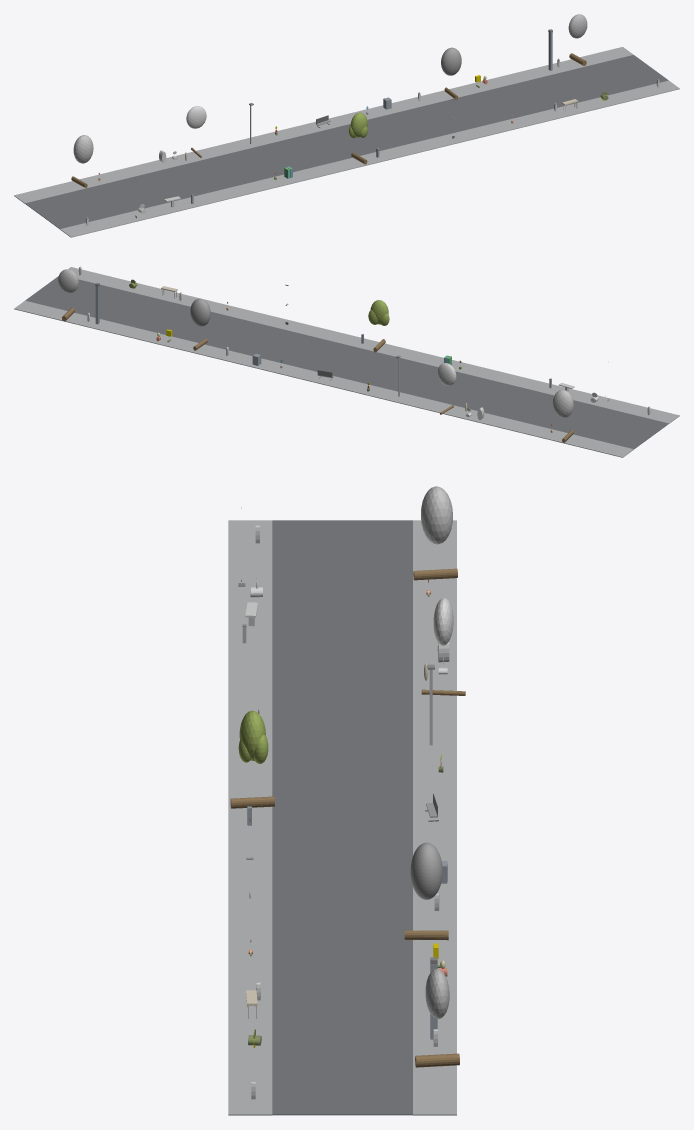
3 renders of one model, top to bottom at view 1: azimuth 30°, elevation 25°; view 2: azimuth 150°, elevation 25°; view 3: azimuth 270°, elevation 25°, orthographic. The views are drawn at different scales.
Visible parts, largest first — view 1: road_slab, sidewalk_left, sidewalk_right, inst_0012, inst_0015, inst_0014, inst_0016, inst_0013; view 2: road_slab, sidewalk_right, sidewalk_left, inst_0015, inst_0012, inst_0014, inst_0016, inst_0013; view 3: road_slab, sidewalk_left, sidewalk_right, inst_0012, inst_0015, inst_0014, inst_0016, inst_0013.
Boxes of the visible parts, bbox=[...] form: road_slab: bbox=[25, 55, 668, 228]; sidewalk_left: bbox=[60, 80, 679, 237]; sidewalk_right: bbox=[14, 47, 633, 203]; inst_0012: bbox=[71, 135, 93, 187]; inst_0015: bbox=[441, 47, 461, 99]; inst_0014: bbox=[348, 112, 367, 164]; inst_0016: bbox=[568, 14, 587, 65]; inst_0013: bbox=[186, 106, 206, 157]; road_slab: bbox=[25, 276, 668, 449]; sidewalk_right: bbox=[14, 300, 633, 457]; sidewalk_left: bbox=[68, 267, 679, 423]; inst_0015: bbox=[190, 298, 210, 350]; inst_0012: bbox=[552, 389, 573, 442]; inst_0014: bbox=[368, 300, 389, 352]; inst_0016: bbox=[58, 269, 78, 321]; inst_0013: bbox=[437, 363, 456, 414]; road_slab: bbox=[272, 520, 412, 1115]; sidewalk_left: bbox=[228, 520, 272, 1115]; sidewalk_right: bbox=[413, 520, 456, 1115]; inst_0012: bbox=[413, 486, 457, 580]; inst_0015: bbox=[404, 842, 448, 940]; inst_0014: bbox=[230, 710, 274, 808]; inst_0016: bbox=[415, 969, 459, 1067]; inst_0013: bbox=[421, 598, 465, 695].
Size of the model in its own units: 80 by 6.08 by 13.5.
